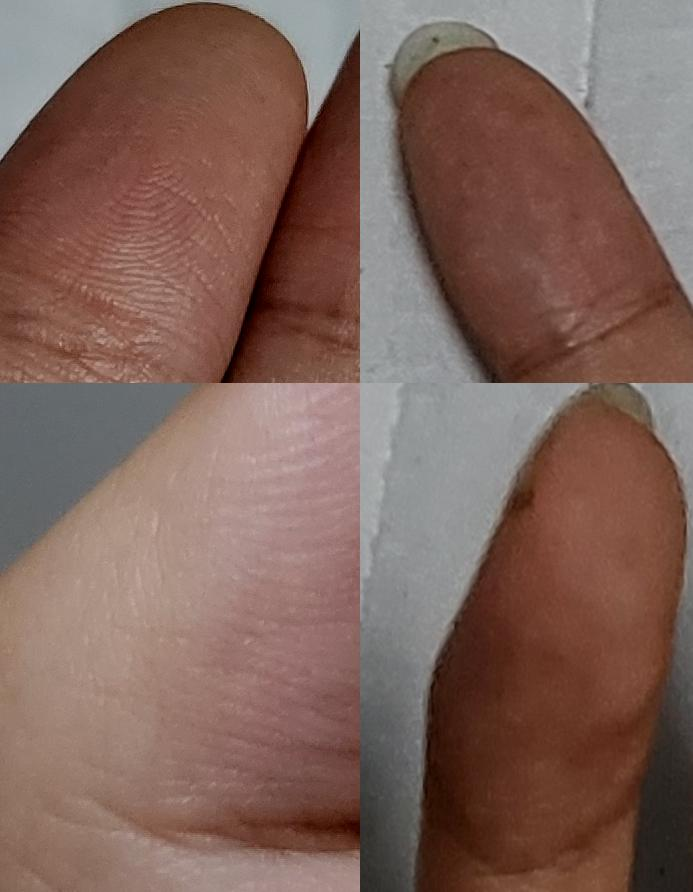Fingerprints: (425, 393, 688, 869), (88, 383, 360, 833), (0, 0, 310, 383), (398, 46, 680, 381)
